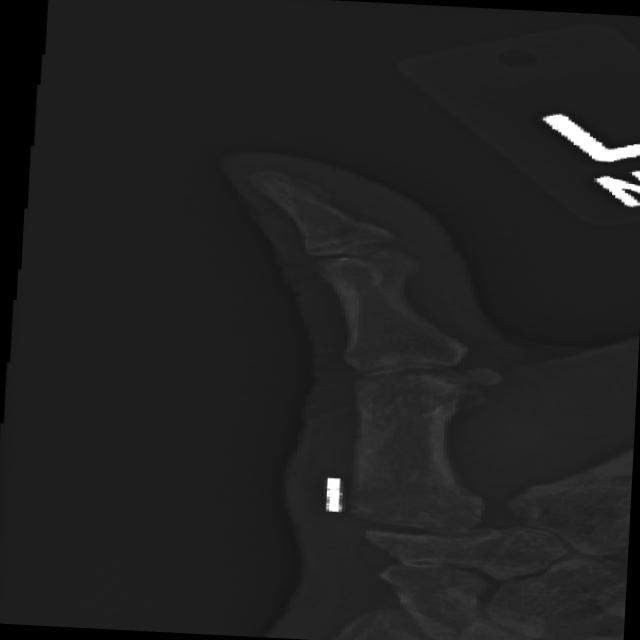forearm fracture: (346, 356, 469, 417)
